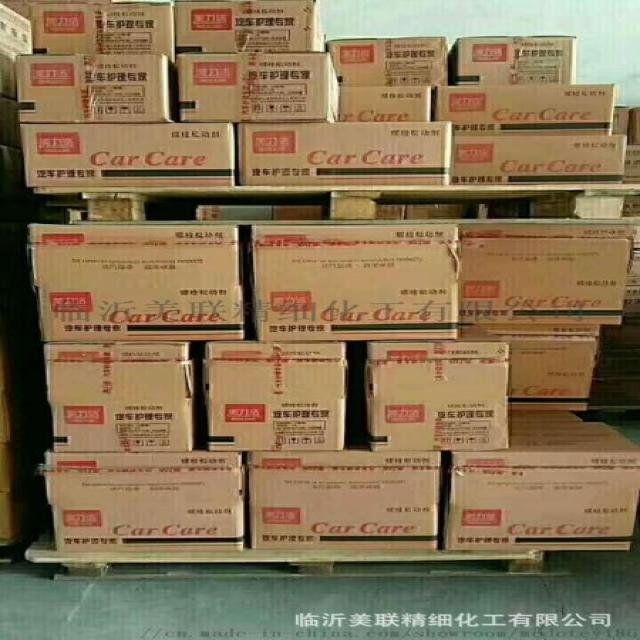box: (436, 422, 639, 550), (237, 223, 458, 340), (29, 224, 245, 342), (46, 450, 245, 551), (242, 450, 438, 550), (43, 341, 192, 453), (369, 339, 511, 451), (206, 341, 347, 451), (457, 238, 627, 324), (21, 122, 238, 188), (238, 121, 453, 186), (457, 324, 601, 412), (177, 54, 340, 123), (20, 54, 178, 123), (429, 84, 617, 136), (27, 3, 176, 63), (451, 135, 627, 185), (173, 0, 329, 54), (447, 37, 577, 87), (326, 38, 449, 87), (336, 86, 431, 123), (343, 340, 369, 451), (190, 341, 211, 451)
